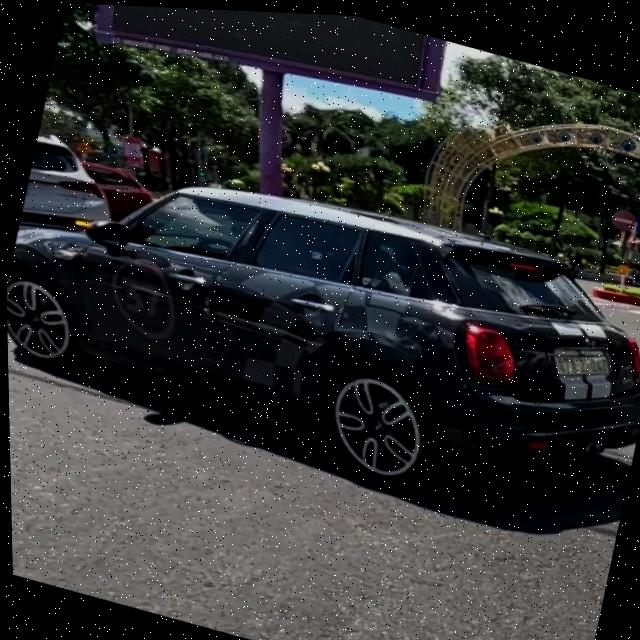car: (2, 112, 640, 566)
plate: (537, 336, 621, 392)
